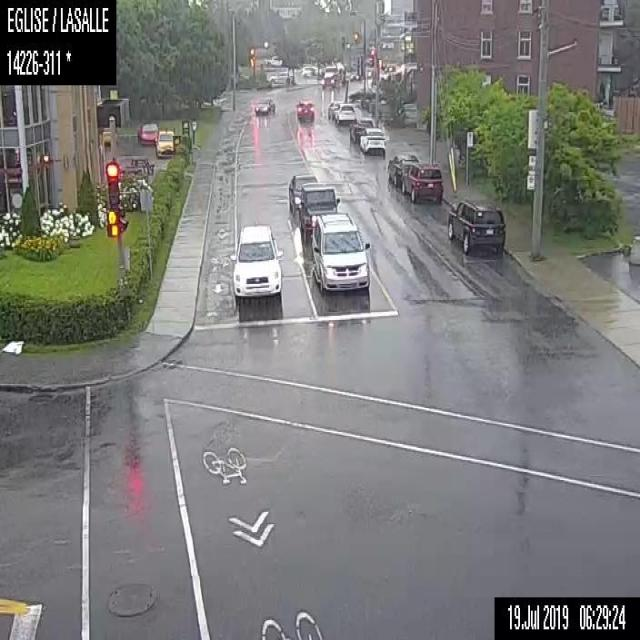vehicle: (310, 210, 370, 292), (228, 223, 282, 297), (446, 198, 504, 254), (299, 180, 339, 244), (400, 163, 444, 203), (287, 172, 318, 215), (385, 151, 420, 187), (348, 115, 375, 143), (359, 127, 385, 156), (317, 63, 345, 89), (152, 128, 174, 156), (136, 120, 160, 145), (334, 103, 356, 126), (294, 96, 314, 121), (253, 95, 276, 116), (269, 70, 291, 85), (327, 100, 343, 120), (300, 63, 318, 77)
